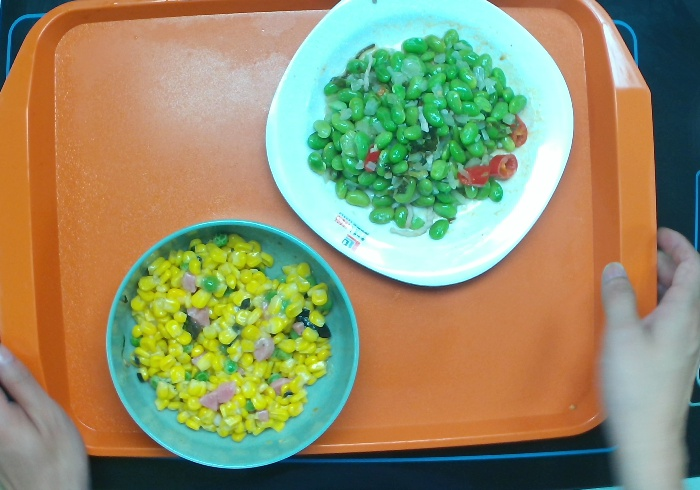ZNLD-Qing_Hua_Yuan_Wan: (104, 218, 360, 471)
ZNLD-Yuan_Jiao_Pan: (264, 1, 575, 287)
